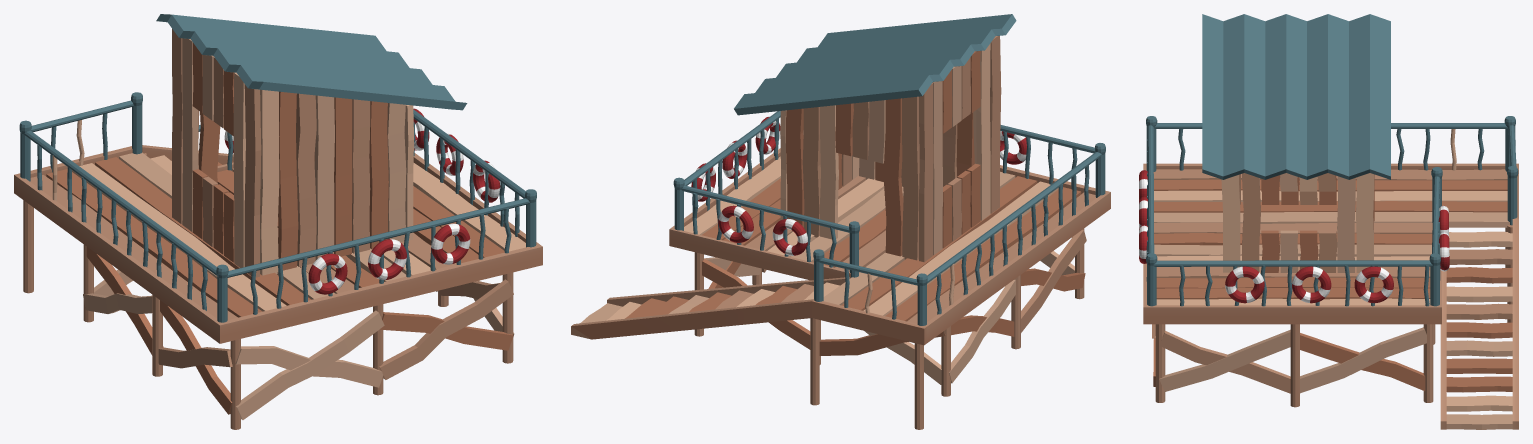
File: POSTOohioufitcurtxyesyydfulhoi.fbx
The picture shows the model from 3 angles, left to right: view 1: azimuth 30°, elevation 25°; view 2: azimuth 150°, elevation 25°; view 3: azimuth 270°, elevation 25°; orthographic projection. The views are drawn at different scales.
Parts seen in each view (by area): view 1: POSTO_LOD0; view 2: POSTO_LOD0; view 3: POSTO_LOD0.
Boxes of the visible parts, bbox=[...] form: POSTO_LOD0: bbox=[14, 14, 542, 429]; POSTO_LOD0: bbox=[571, 14, 1110, 429]; POSTO_LOD0: bbox=[1139, 14, 1518, 429].
Size of what is drawn, in the model's own units: 505 by 391 by 467.
